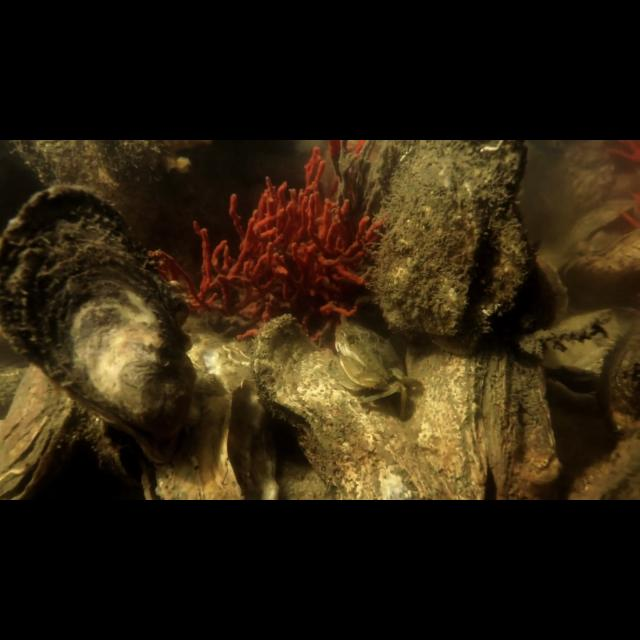Oyster-Closed: (0, 168, 200, 468)
Oyster-Open: (362, 145, 551, 359), (244, 304, 433, 494), (1, 362, 87, 500), (136, 459, 208, 498)
